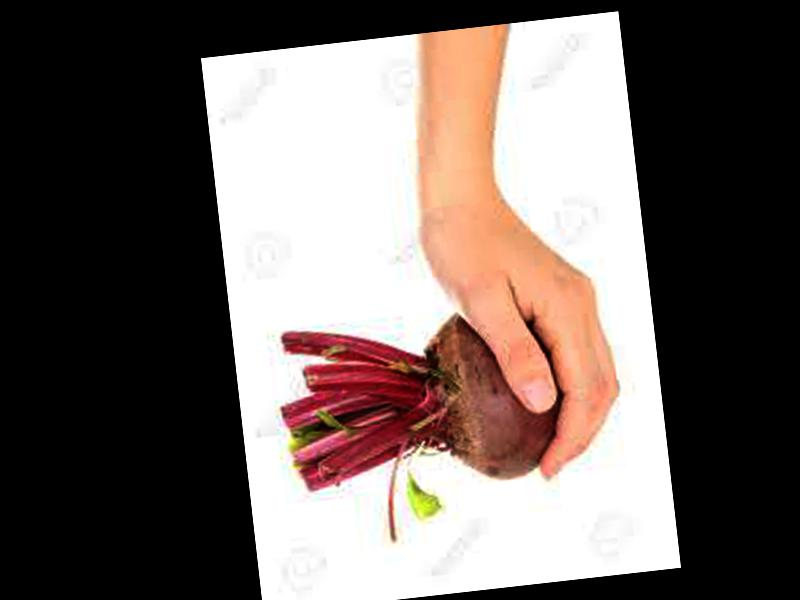Beet: (273, 304, 577, 554)
